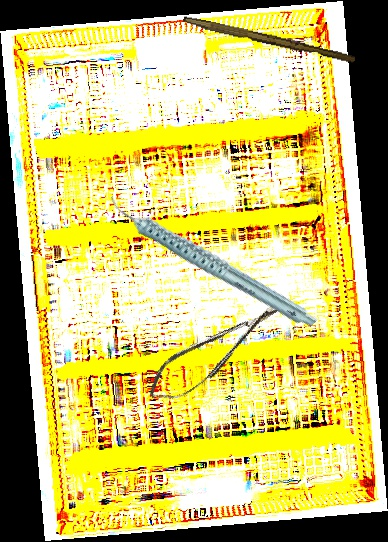Handpiece: (105, 154, 321, 366)
Micro Scissor: (139, 289, 297, 411)
Scalpel Handle: (181, 15, 357, 65)
